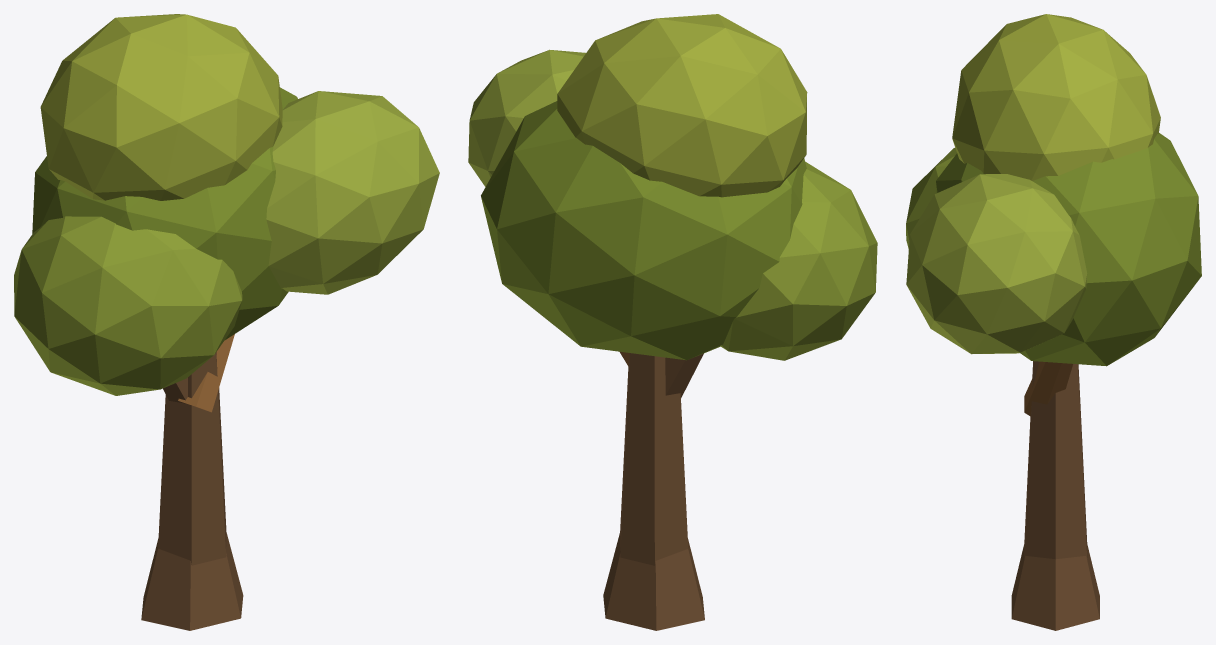
File: tree-canopy-4.gltf
3 renders of one model, left to right at view 1: azimuth 30°, elevation 25°; view 2: azimuth 150°, elevation 25°; view 3: azimuth 270°, elevation 25°, orthographic. The views are drawn at different scales.
Parts seen in each view (by area): view 1: tree-canopy-4; view 2: tree-canopy-4; view 3: tree-canopy-4.
Part boxes in pixels (x1,y1,x2,y2): tree-canopy-4: (14, 14, 439, 630); tree-canopy-4: (468, 14, 877, 630); tree-canopy-4: (906, 14, 1201, 630).
Size of the model in its own units: 1.08 by 1.57 by 0.747.
